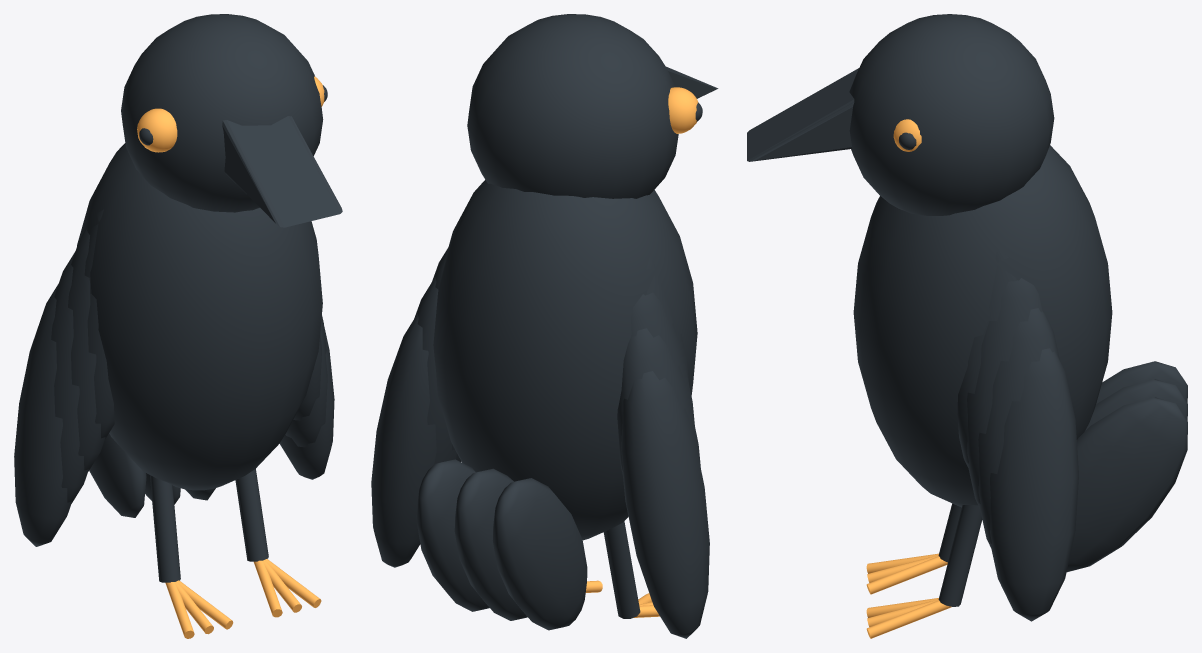
The model's file is raven.glb.
The picture shows the model from 3 angles, left to right: view 1: azimuth 30°, elevation 25°; view 2: azimuth 150°, elevation 25°; view 3: azimuth 270°, elevation 25°; orthographic projection. The views are drawn at different scales.
Parts seen in each view (by area): view 1: watchful-raven; view 2: watchful-raven; view 3: watchful-raven.
Part boxes in pixels (box(x1,y1,x2,y2)): watchful-raven: box(14, 14, 342, 638); watchful-raven: box(371, 14, 718, 638); watchful-raven: box(747, 14, 1187, 638).
Bounding box in the file's own units: 0.3831 × 0.6808 × 0.4633.
